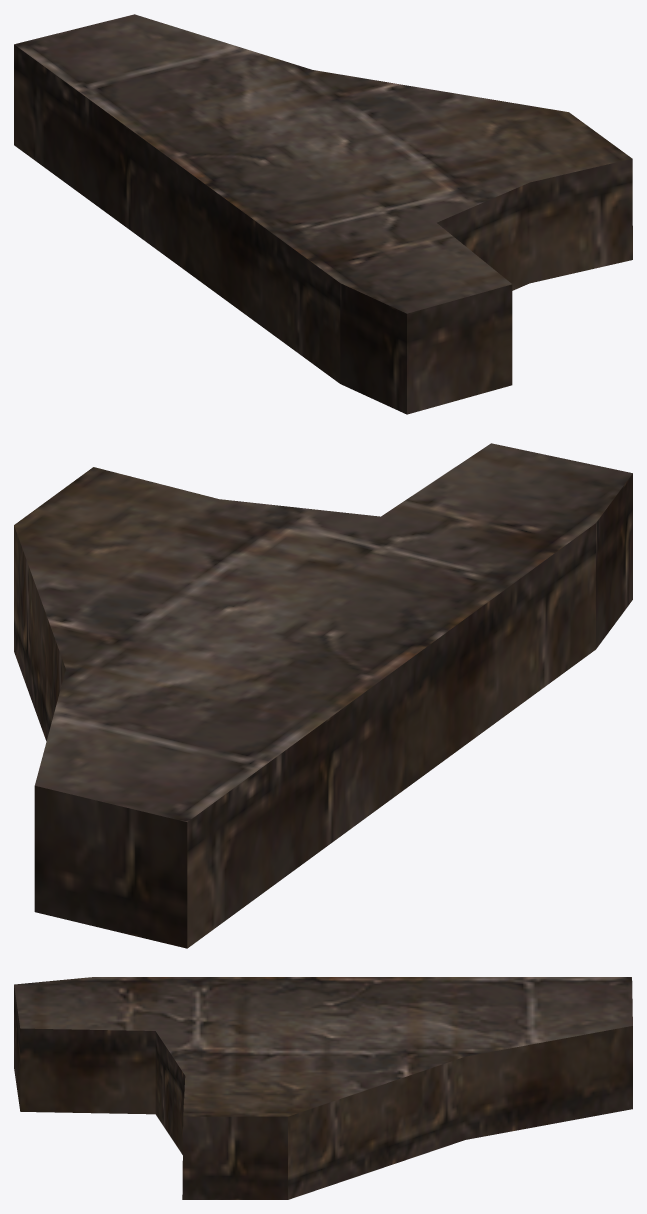
File: blsd_4suishi_09.FBX
The picture shows the model from 3 angles, top to bottom: view 1: azimuth 30°, elevation 25°; view 2: azimuth 150°, elevation 25°; view 3: azimuth 270°, elevation 25°; orthographic projection. The views are drawn at different scales.
Visible parts, largest first — view 1: blsd_4suishi_09; view 2: blsd_4suishi_09; view 3: blsd_4suishi_09.
Boxes of the visible parts, x1,y1,x2,y2 form: blsd_4suishi_09: [14, 14, 632, 414]; blsd_4suishi_09: [14, 443, 632, 948]; blsd_4suishi_09: [14, 977, 632, 1199].
Size of the model in its own units: 132 by 36.68 by 247.
